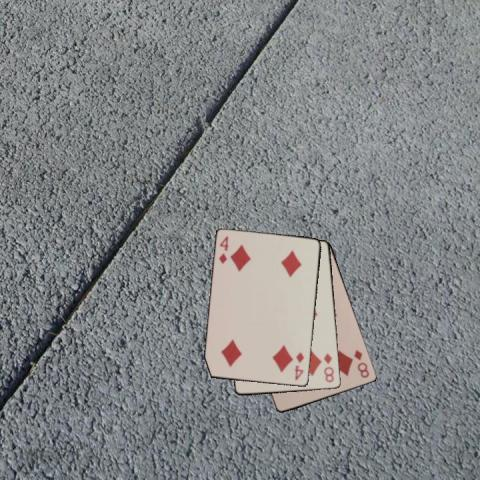4d: (292, 349, 305, 382), (217, 234, 230, 266)
8d: (351, 347, 371, 379), (322, 350, 335, 384)
